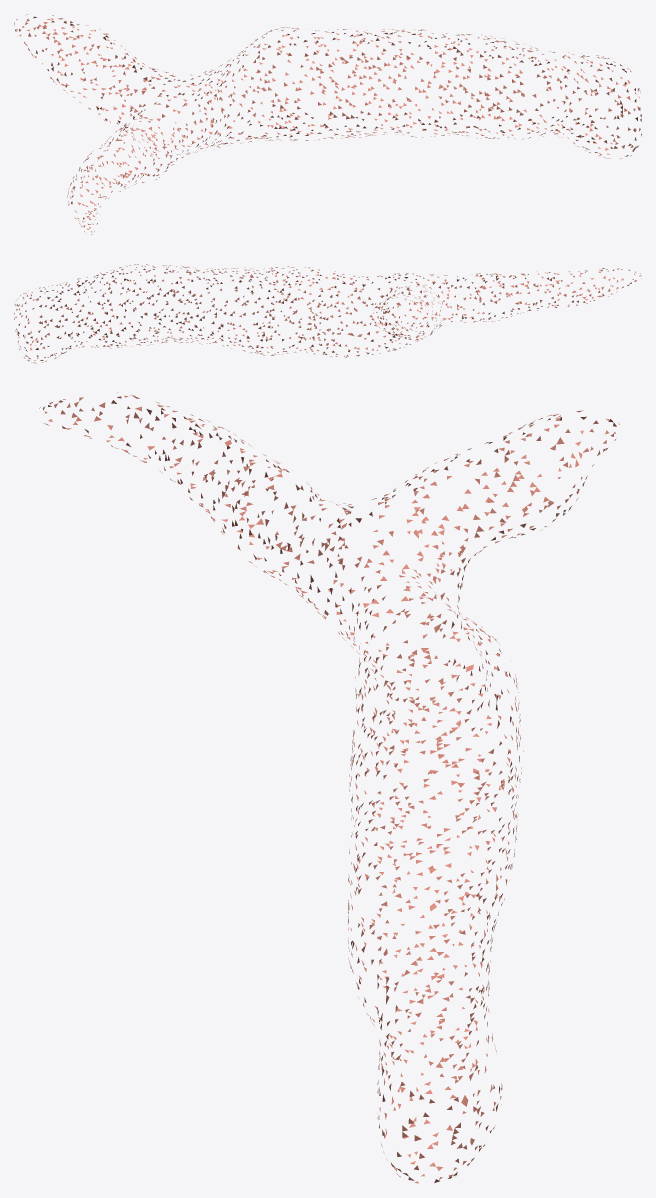
The model's file is morph_002.glb.
The picture shows the model from 3 angles, top to bottom: view 1: azimuth 30°, elevation 25°; view 2: azimuth 150°, elevation 25°; view 3: azimuth 270°, elevation 25°; orthographic projection. The views are drawn at different scales.
Bounding box in the file's own units: 126 × 41.79 × 60.39.
